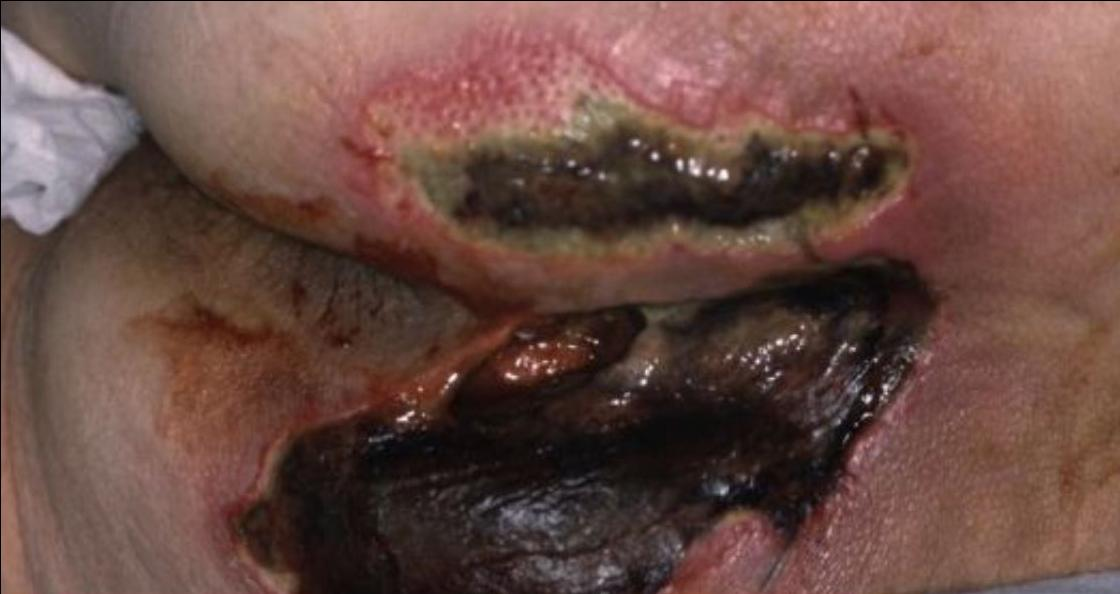Stage4: (205, 46, 1032, 589)
